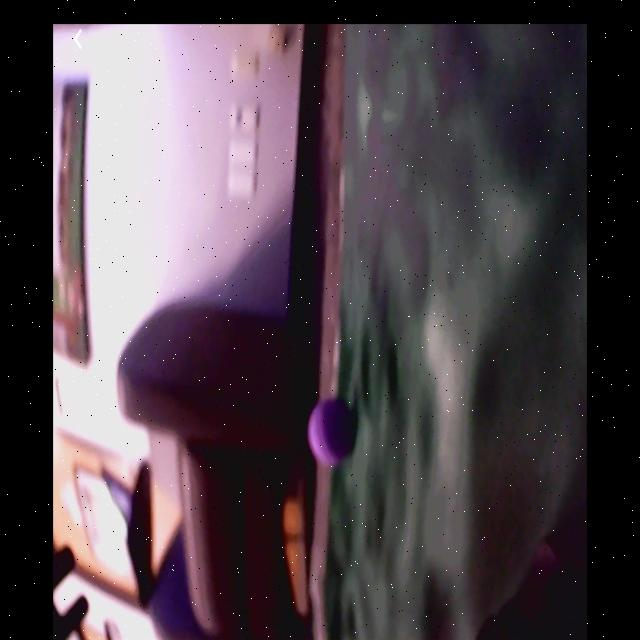ball: (310, 399, 357, 465)
